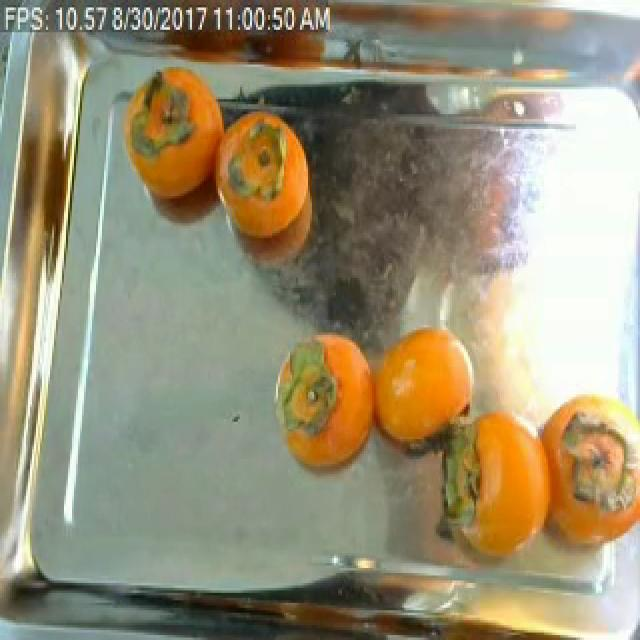Fruit: (210, 96, 328, 288), (122, 55, 240, 238)
